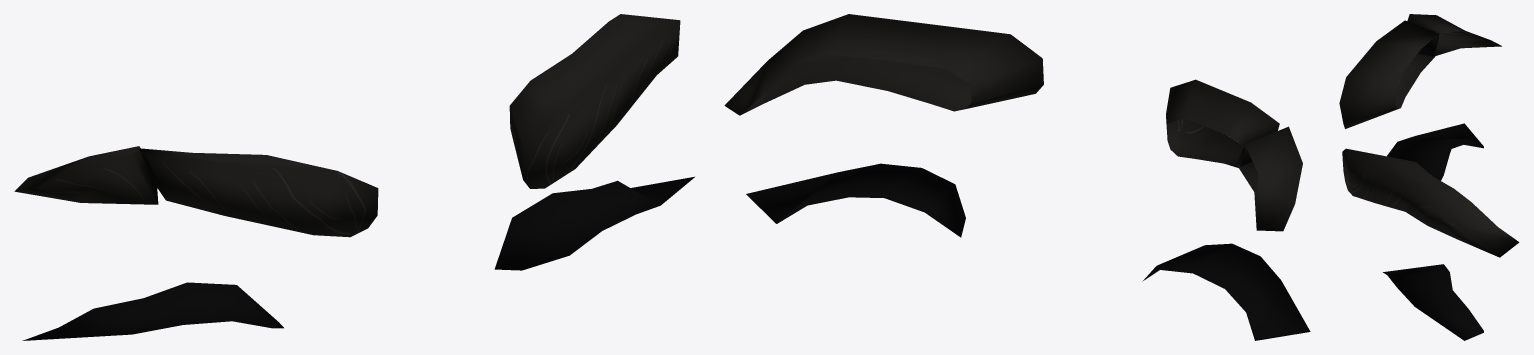
File: brous9.fbx
3 views of the same model, side by side, from view 1: azimuth 30°, elevation 25°; view 2: azimuth 150°, elevation 25°; view 3: azimuth 270°, elevation 25° (orthographic). The views are drawn at different scales.
Visible parts, largest first — view 1: brous9; view 2: brous9; view 3: brous9.
Boxes of the visible parts, box(x1,y1,x2,y2) form: brous9: box(14, 14, 694, 340); brous9: box(724, 14, 1310, 340); brous9: box(1339, 14, 1519, 340).
Bounding box in the file's own units: 11.14 × 3.42 × 3.9.
